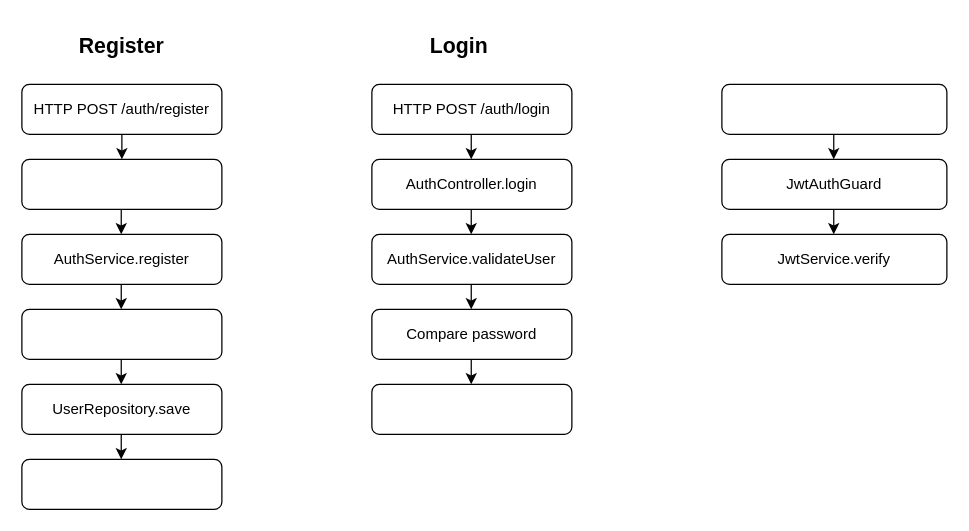
Some shapes in this 969 by 531 pixel diagram are drawn without their labels. Each missing label, with the centre of its shape:
"AuthController.register" goes at point (121, 183).
"AuthService.login" goes at point (471, 408).
"Generate tokens" goes at point (121, 483).
"Hash password (bcrypt)" goes at point (121, 333).
"Protected Route Request" goes at point (834, 108).
